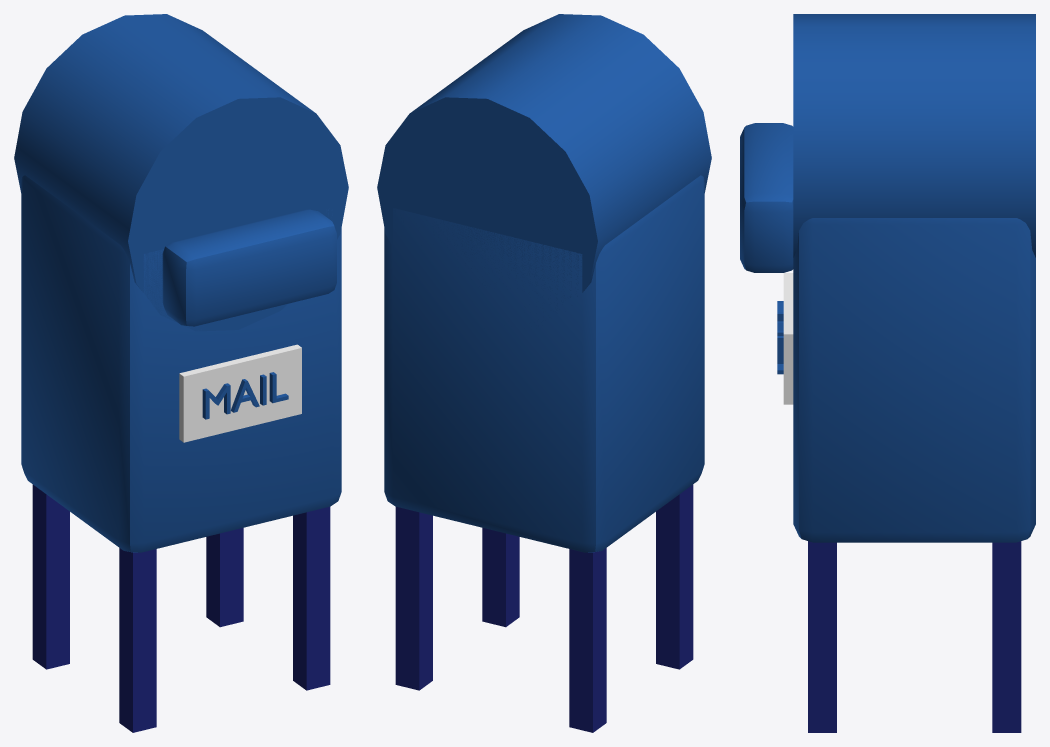
Rendered from streets_mailbox.glb.
The picture shows the model from 3 angles, left to right: view 1: azimuth 30°, elevation 25°; view 2: azimuth 150°, elevation 25°; view 3: azimuth 270°, elevation 25°; orthographic projection. The views are drawn at different scales.
Visible parts, largest first — view 1: Mailbox_body; view 2: Mailbox_body; view 3: Mailbox_body.
Boxes of the visible parts, x1,y1,x2,y2 form: Mailbox_body: [14, 14, 348, 732]; Mailbox_body: [377, 14, 711, 732]; Mailbox_body: [740, 14, 1035, 732].
Size of the model in its own units: 0.56 by 1.49 by 0.61.
